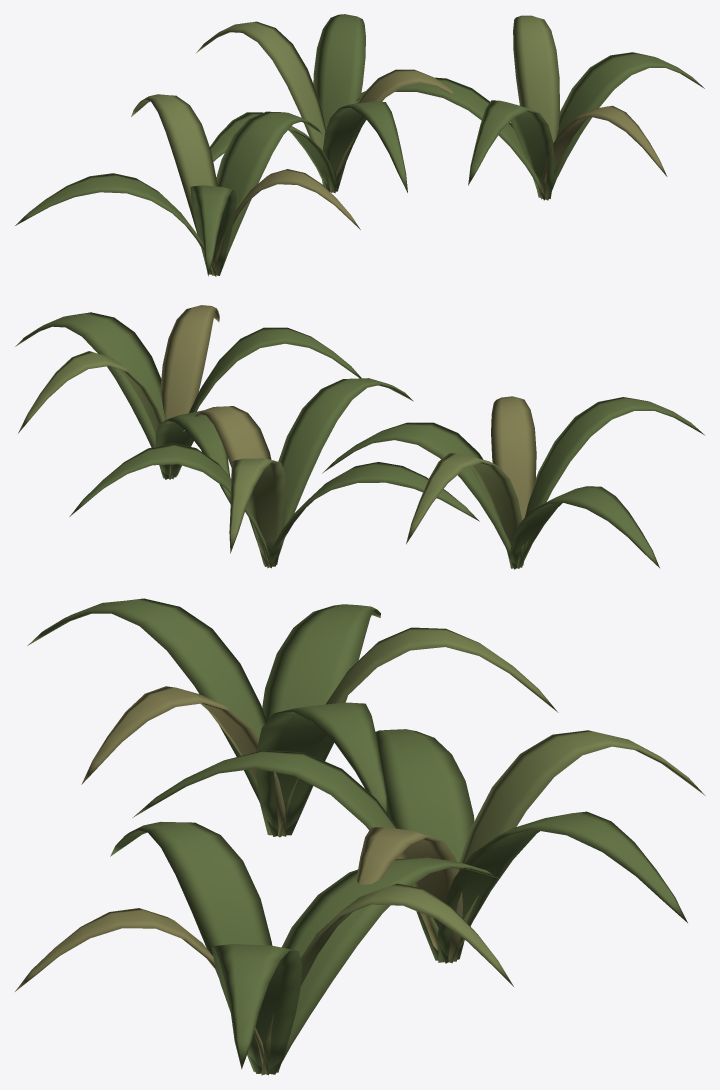
File: city_planting_05_spreading_clump.glb
The picture shows the model from 3 angles, top to bottom: view 1: azimuth 30°, elevation 25°; view 2: azimuth 150°, elevation 25°; view 3: azimuth 270°, elevation 25°; orthographic projection. The views are drawn at different scales.
Parts seen in each view (by area): view 1: spreading_clump_blades; view 2: spreading_clump_blades; view 3: spreading_clump_blades.
Part boxes in pixels (x1,y1,x2,y2): spreading_clump_blades: [15, 14, 704, 276]; spreading_clump_blades: [15, 305, 704, 569]; spreading_clump_blades: [15, 598, 705, 1075].
Size of the model in its own units: 1 by 0.2 by 0.62.
